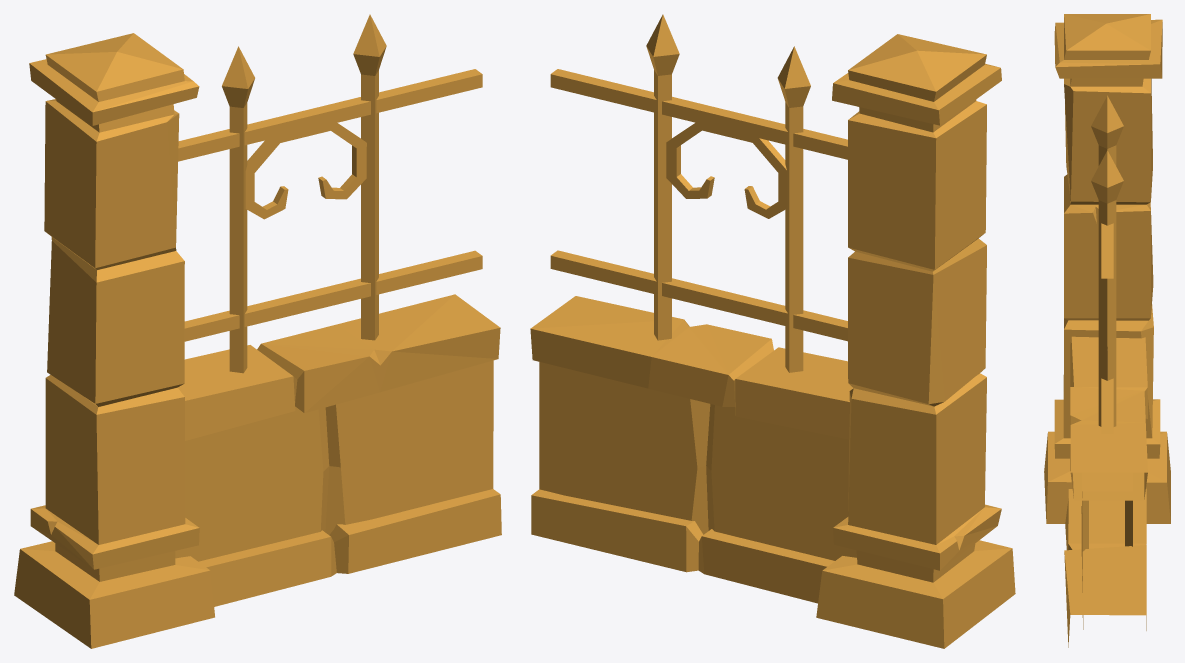
The model's file is wall-graveyard-1m.fbx.
The picture shows the model from 3 angles, left to right: view 1: azimuth 30°, elevation 25°; view 2: azimuth 150°, elevation 25°; view 3: azimuth 270°, elevation 25°; orthographic projection. The views are drawn at different scales.
Parts seen in each view (by area): view 1: wall-graveyard-1m; view 2: wall-graveyard-1m; view 3: wall-graveyard-1m.
Part boxes in pixels (x1,y1,x2,y2): wall-graveyard-1m: (14,14,501,648); wall-graveyard-1m: (530,14,1015,648); wall-graveyard-1m: (1044,14,1170,647).
Bounding box in the file's own units: 1.15 × 1.43 × 0.3459.
